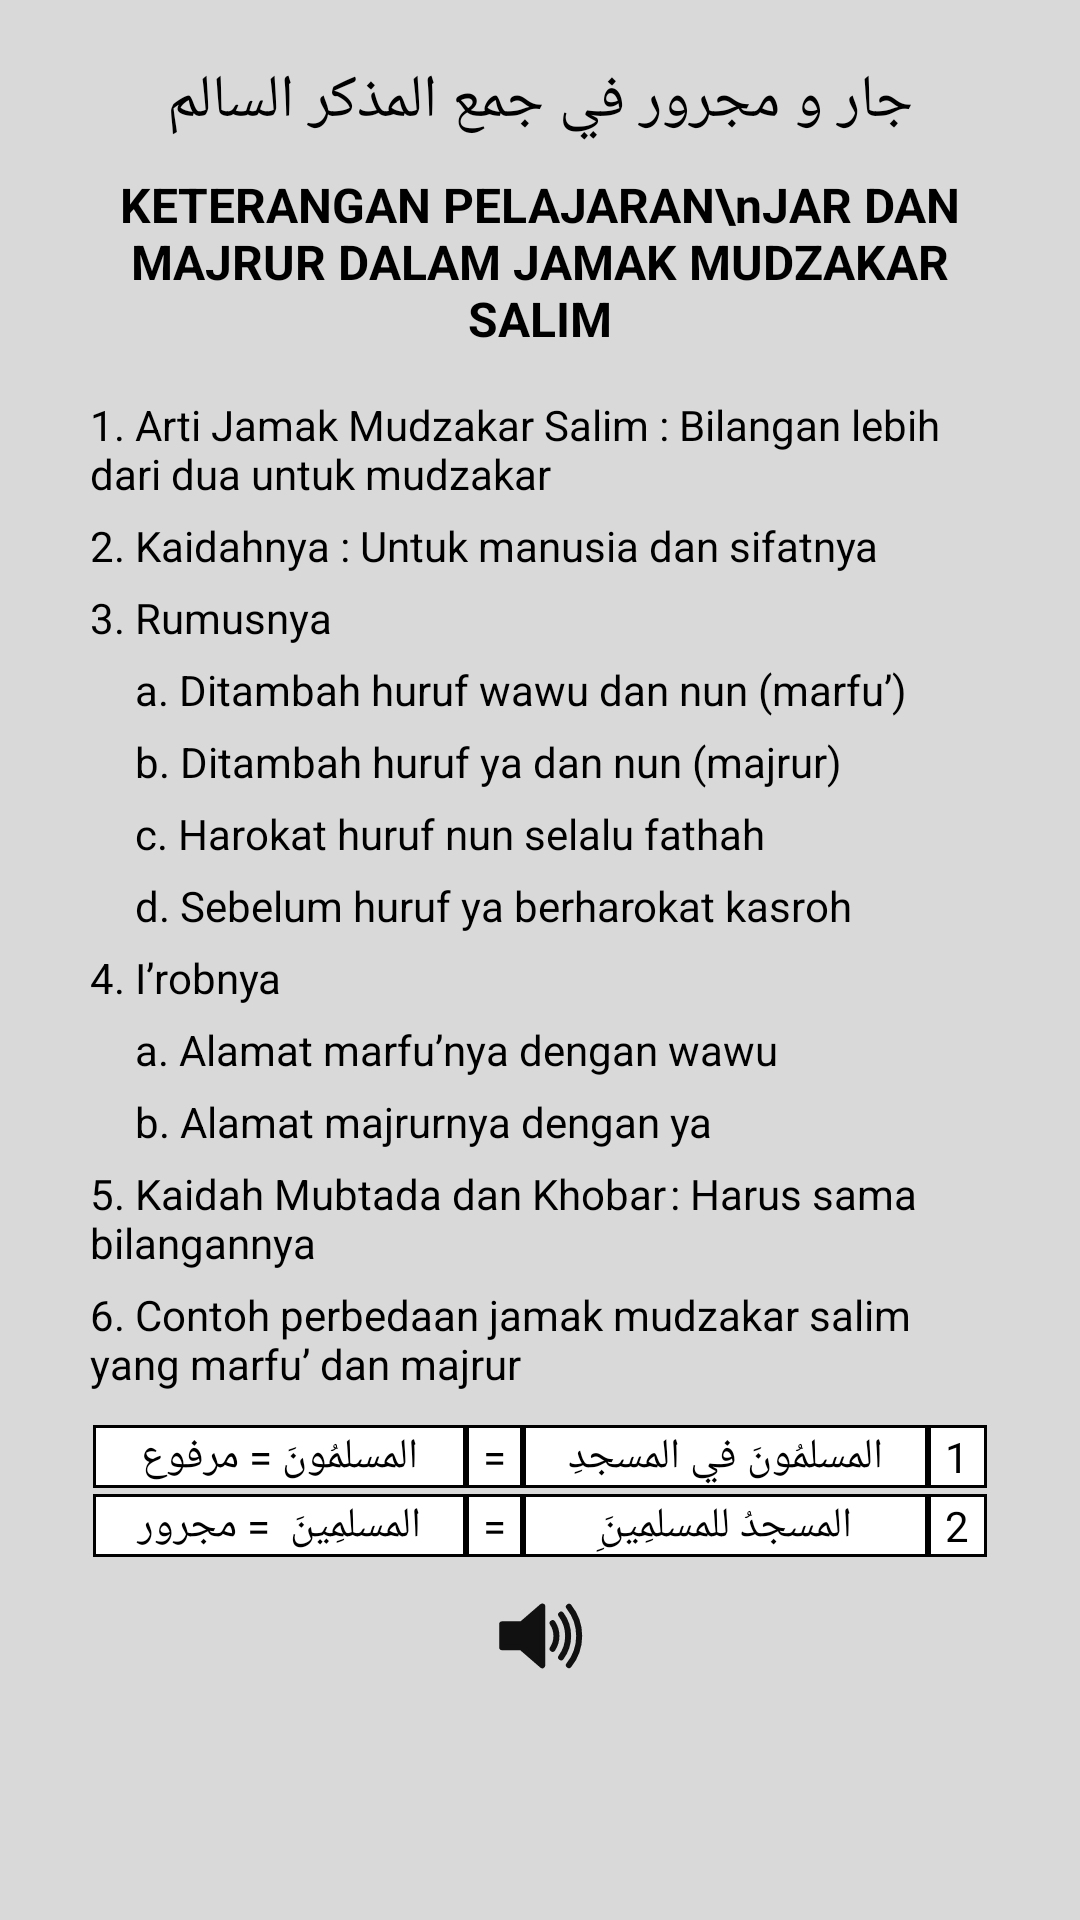

Named icons in this screenshot (1080 × 1920) and their bounding boxes, bbox=(x1, y1, x2, y2):
sound: bbox=(499, 1603, 583, 1669)
